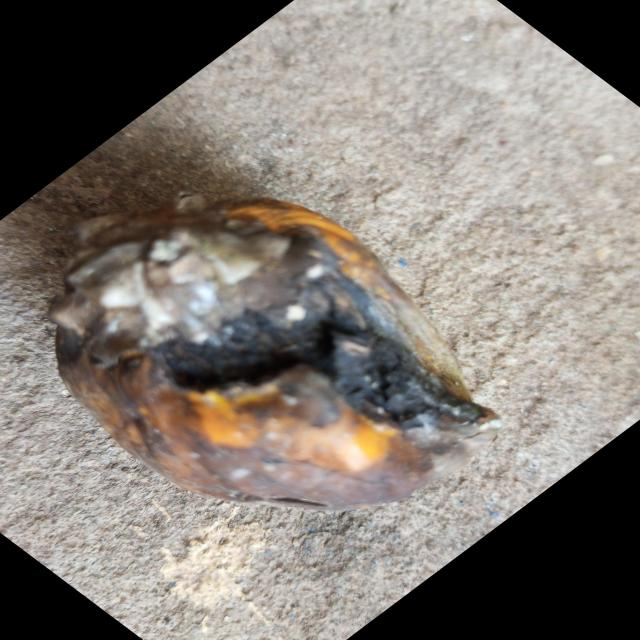damaged: (48, 192, 497, 512)
